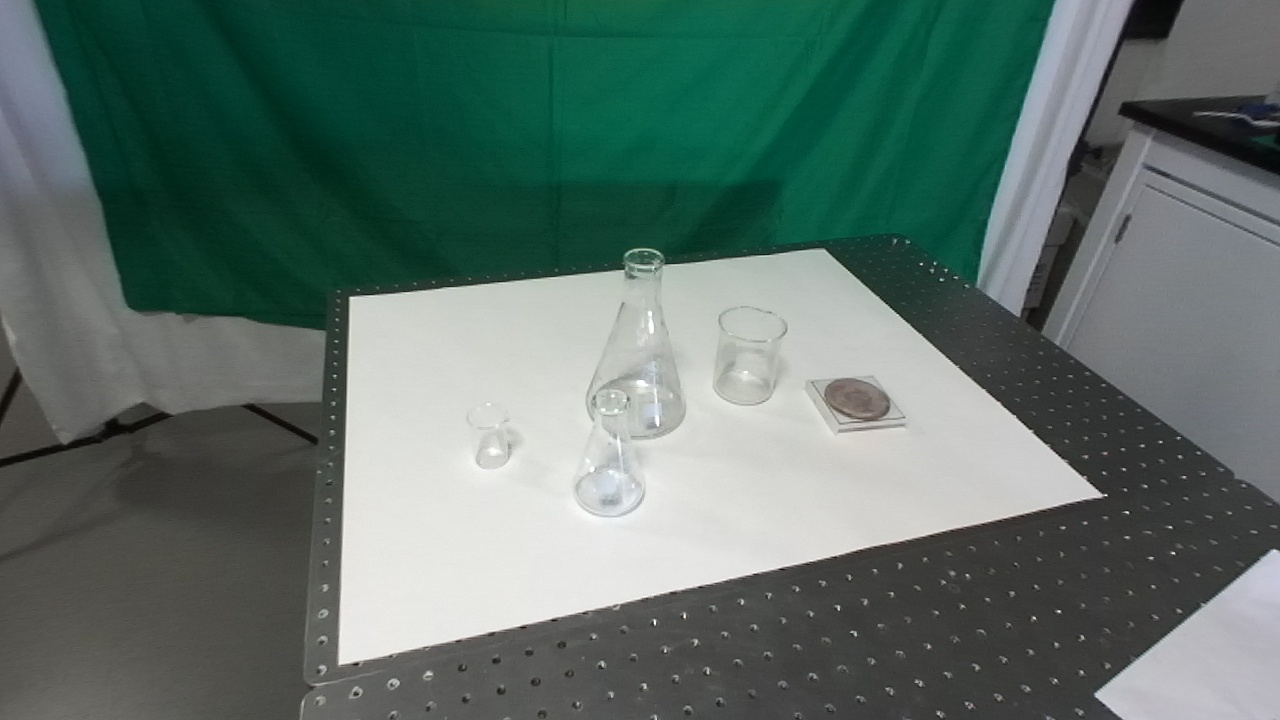glass: (582, 245, 690, 443), (569, 384, 648, 521), (709, 302, 792, 409), (465, 400, 514, 472)
plate: (802, 371, 910, 437)
